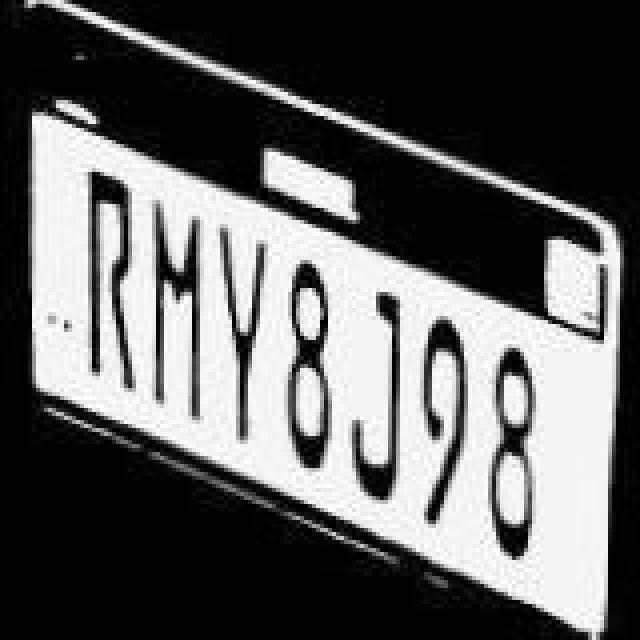8: (288, 254, 344, 474), (488, 344, 540, 560)
9: (418, 314, 474, 530)
J: (350, 292, 414, 504)
M: (142, 198, 210, 422)
R: (80, 170, 144, 398)
Y: (214, 222, 274, 446)
